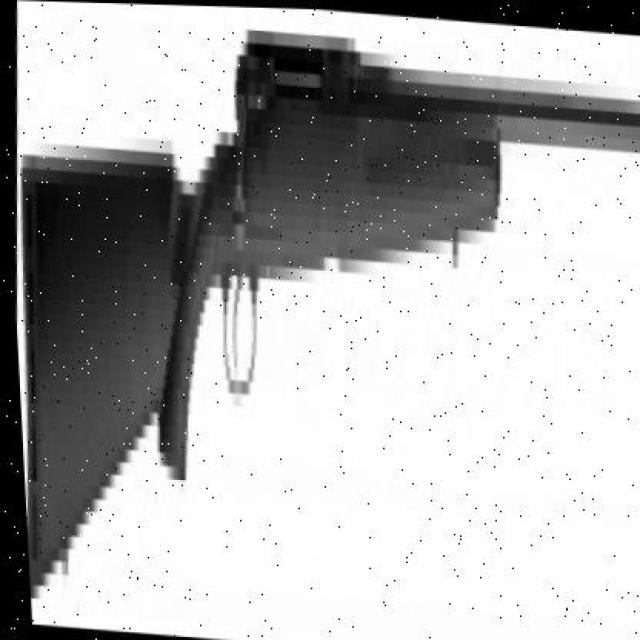weapon: (13, 28, 640, 597)
